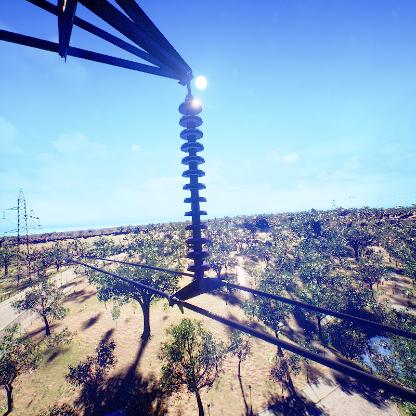insulator: (175, 99, 212, 277)
tower: (1, 186, 45, 289)
